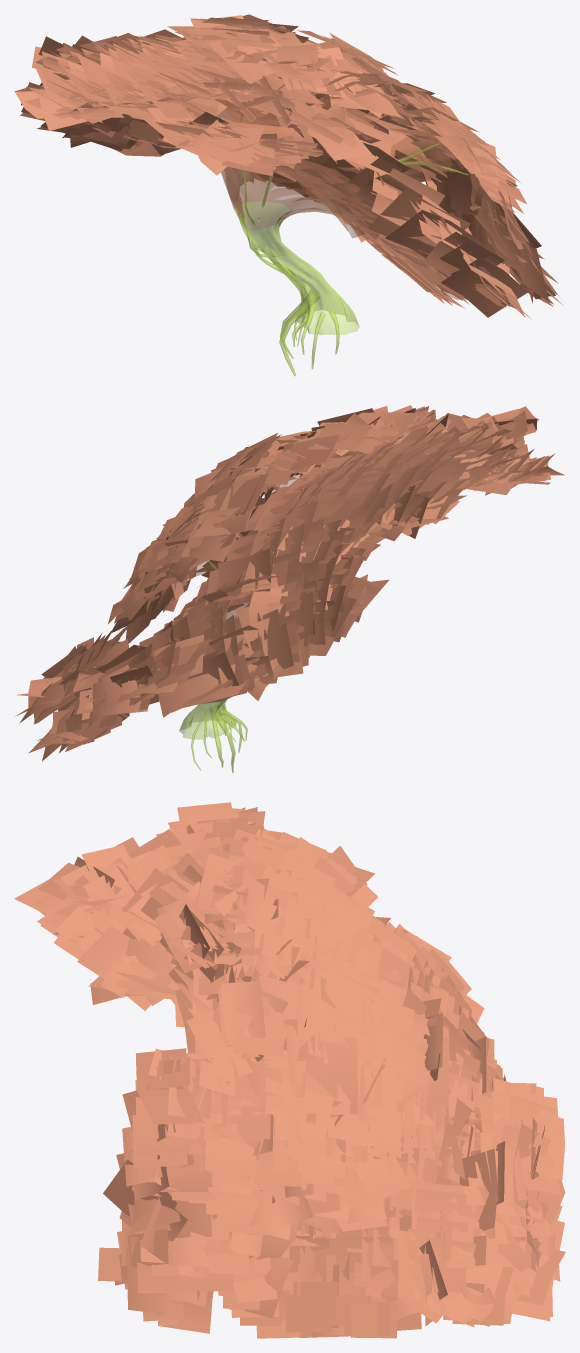
Rendered from savTreeCypress_invert.fbx.
The picture shows the model from 3 angles, top to bottom: view 1: azimuth 30°, elevation 25°; view 2: azimuth 150°, elevation 25°; view 3: azimuth 270°, elevation 25°; orthographic projection. The views are drawn at different scales.
Parts seen in each view (by area): view 1: savTreeCypressLeaf__invert_LOD0, savTreeCypress__invert_LOD0; view 2: savTreeCypressLeaf__invert_LOD0, savTreeCypress__invert_LOD0; view 3: savTreeCypressLeaf__invert_LOD0.
Boxes of the visible parts, x1,y1,x2,y2 form: savTreeCypressLeaf__invert_LOD0: (14, 14, 563, 319); savTreeCypress__invert_LOD0: (145, 69, 468, 376); savTreeCypressLeaf__invert_LOD0: (15, 405, 564, 761); savTreeCypress__invert_LOD0: (97, 432, 431, 773); savTreeCypressLeaf__invert_LOD0: (14, 802, 565, 1338).
Size of what is drawn, in the model's own units: 3307 by 2686 by 3295.
